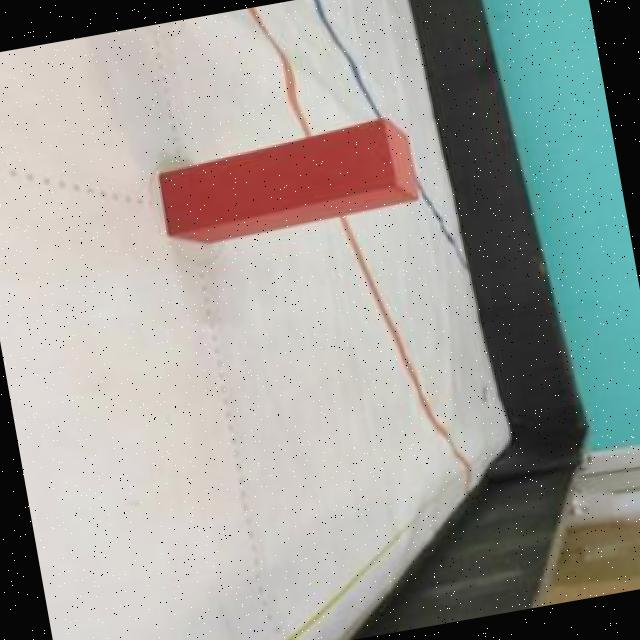redbox: (153, 113, 424, 250)
